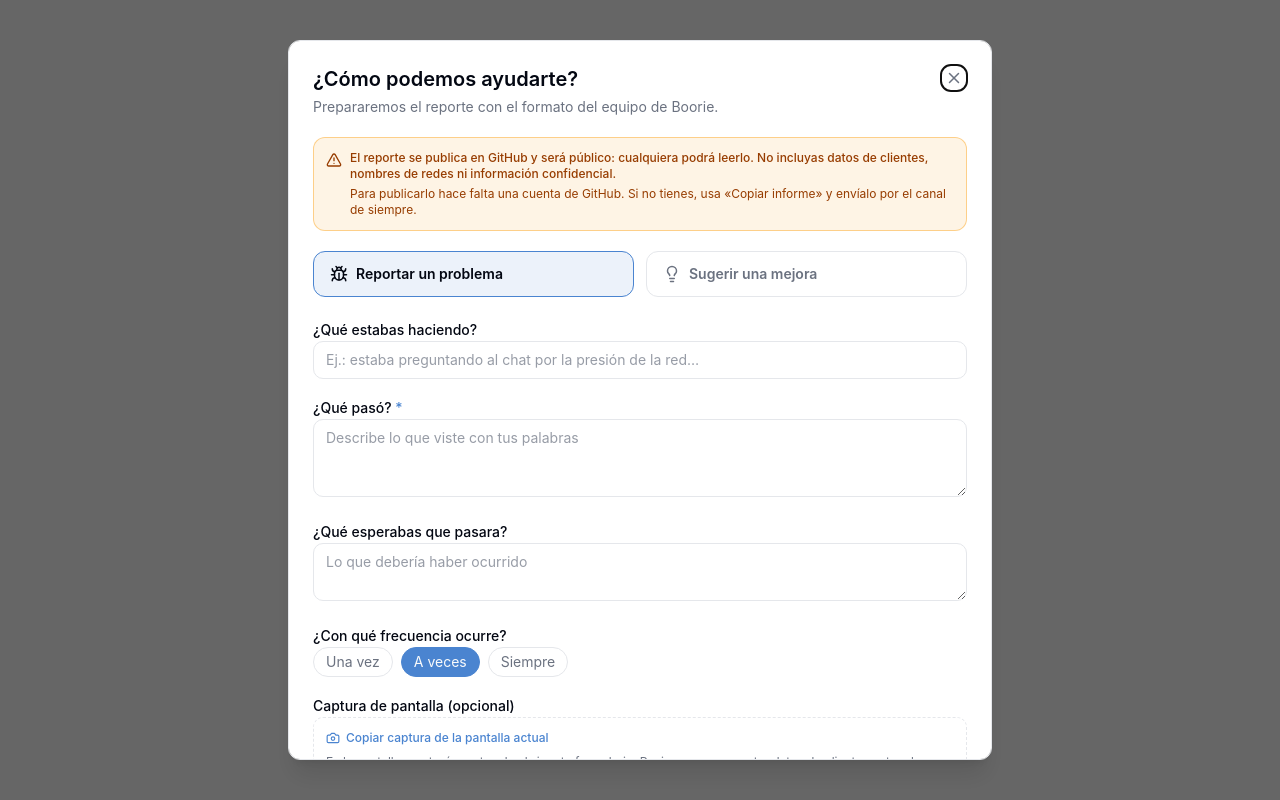
Test: DialogoAyuda › los botones de envío esperan a que esté lo obligatorio
Type "Se cuelga" into the text box with placeholder "Describe lo que viste con tus palabras" at point(640, 458), box [313,419,967,497]
(page scrolled)
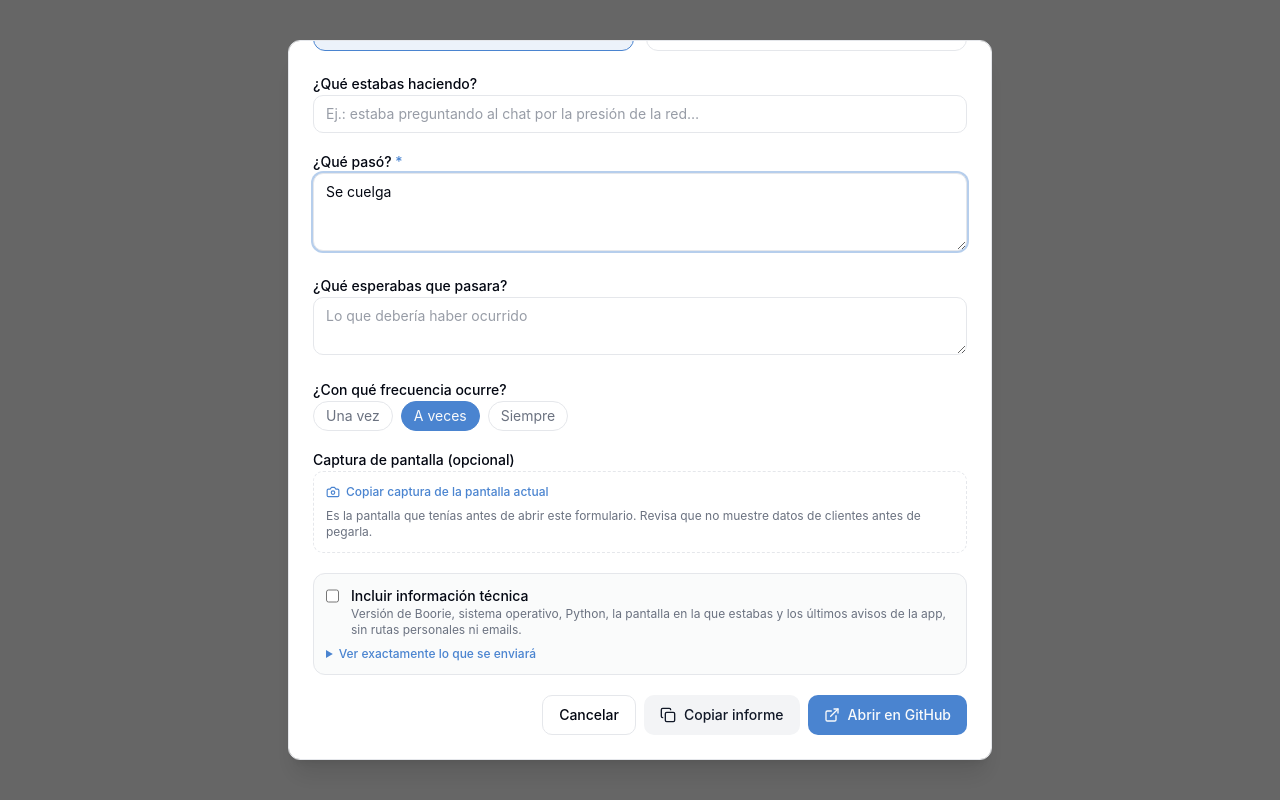
Now the button "Abrir en GitHub" is enabled, box [808,695,967,735]
